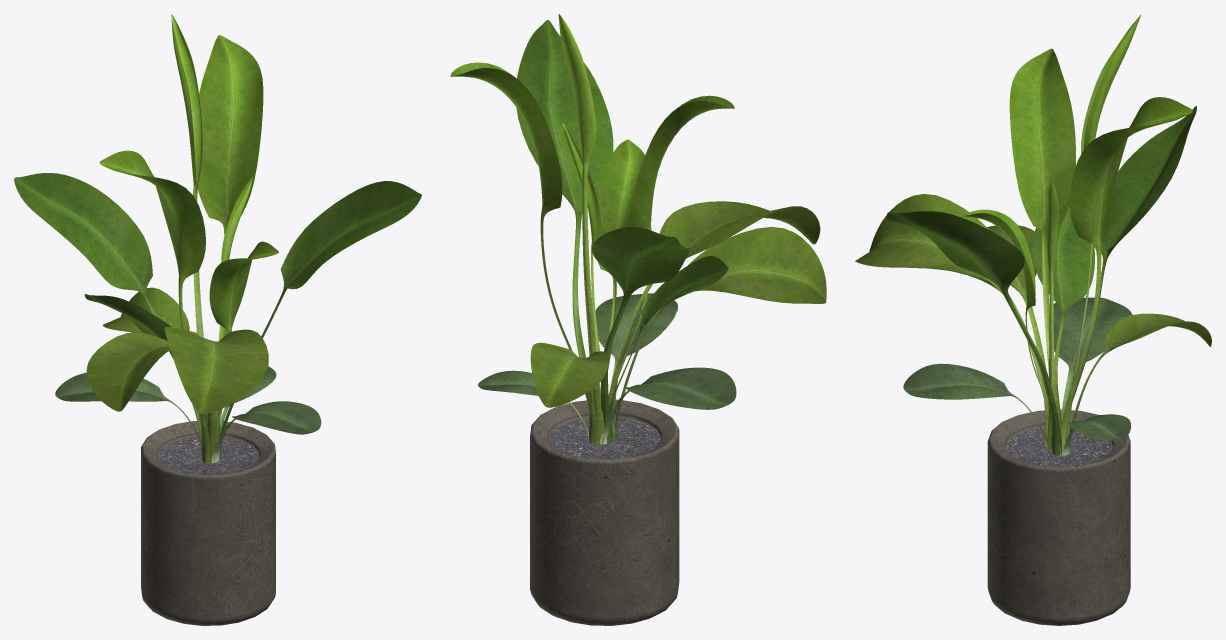
File: rhyzome_plant.glb
The picture shows the model from 3 angles, left to right: view 1: azimuth 30°, elevation 25°; view 2: azimuth 150°, elevation 25°; view 3: azimuth 270°, elevation 25°; orthographic projection. The views are drawn at different scales.
Parts seen in each view (by area): view 1: plant_lambert2_0, concrete_pot_lambert3_0; view 2: plant_lambert2_0, concrete_pot_lambert3_0; view 3: plant_lambert2_0, concrete_pot_lambert3_0.
Boxes of the visible parts, <box> form: plant_lambert2_0: <box>14,14,421,463</box>; concrete_pot_lambert3_0: <box>141,421,275,625</box>; plant_lambert2_0: <box>450,14,826,444</box>; concrete_pot_lambert3_0: <box>530,399,679,625</box>; plant_lambert2_0: <box>855,15,1211,455</box>; concrete_pot_lambert3_0: <box>987,409,1130,625</box>.
Size of the model in its own units: 0.9757 by 1.81 by 0.9984.
2 materials, 2 textured.
